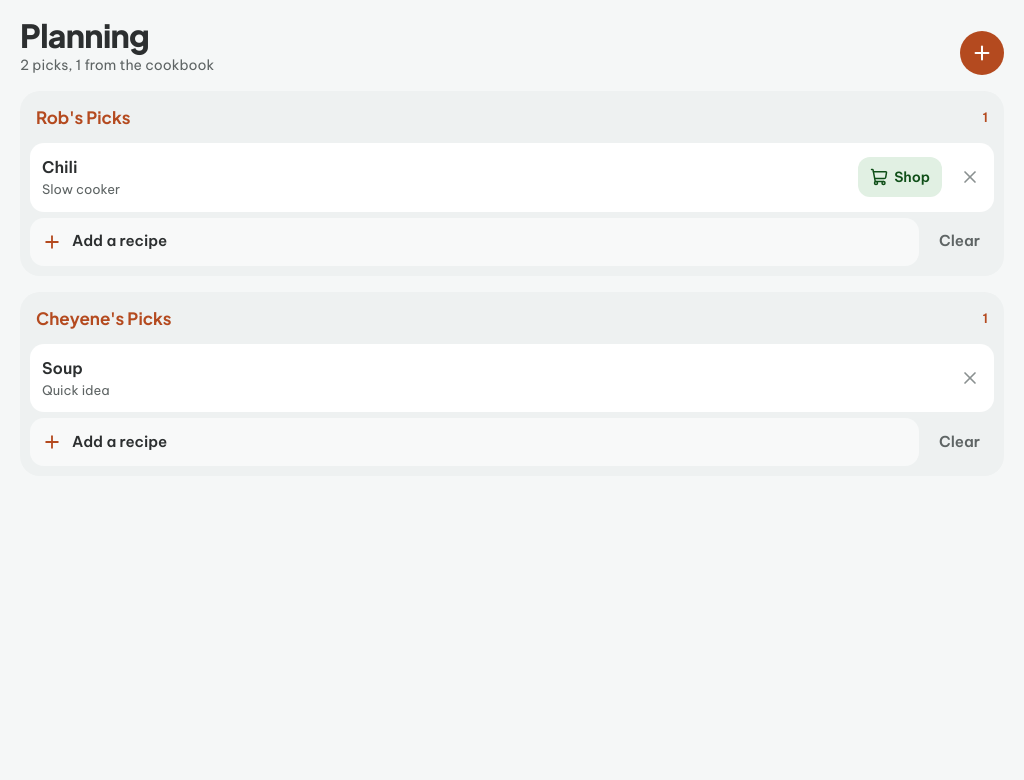
Scenario: PlanningPage › removing a pick hides it behind an undo toast without deleting yet
The width and height of the screenshot is (1024, 780).
expect the text "Soup" is shown: met, box [42, 358, 83, 378]
Click the button named "Remove Soup" at coordinates (970, 378), box [950, 358, 990, 398]
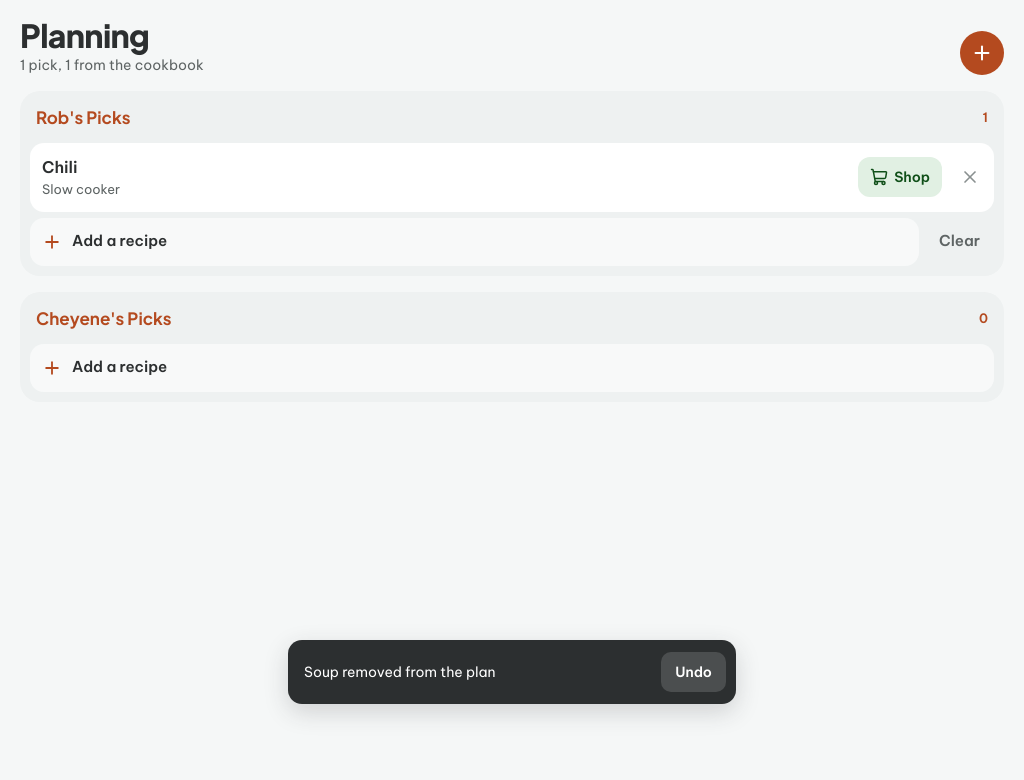
expect the button "Undo" is shown: met, box [661, 652, 726, 692]
